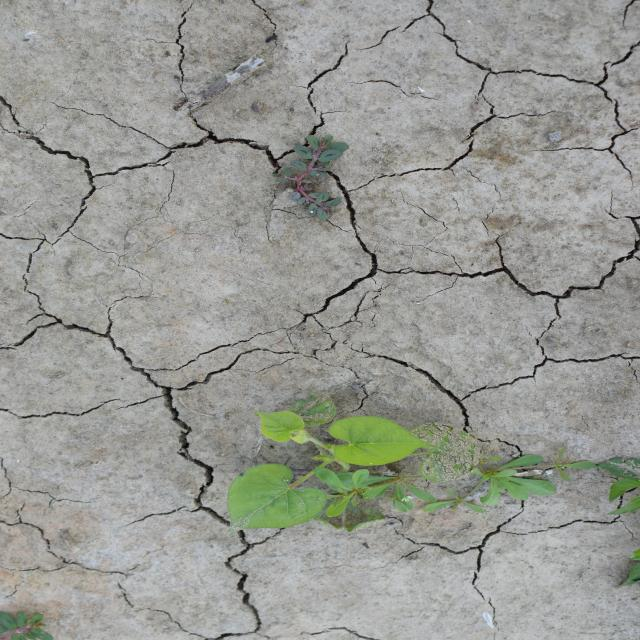Carpetweed: (312, 444, 600, 518)
MorningGlory: (221, 391, 442, 532)
SpottedSpurge: (270, 133, 352, 224)
